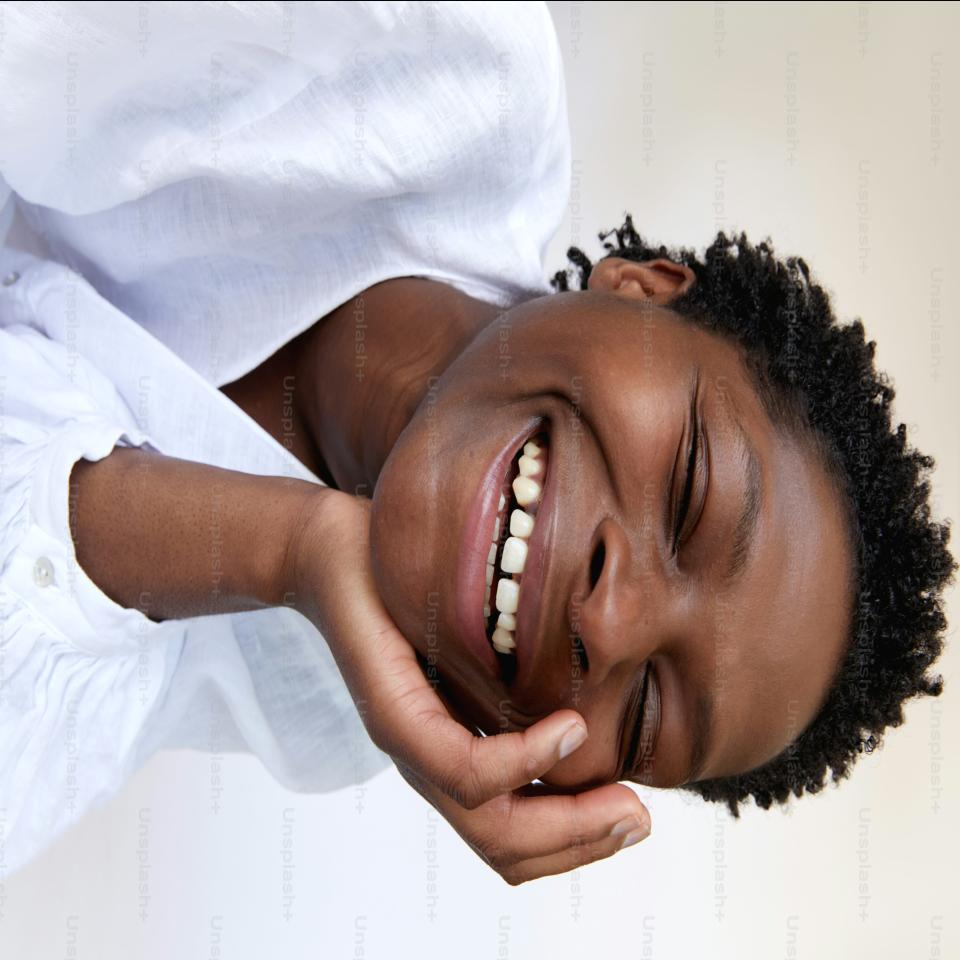Happiness: (416, 304, 834, 761)
